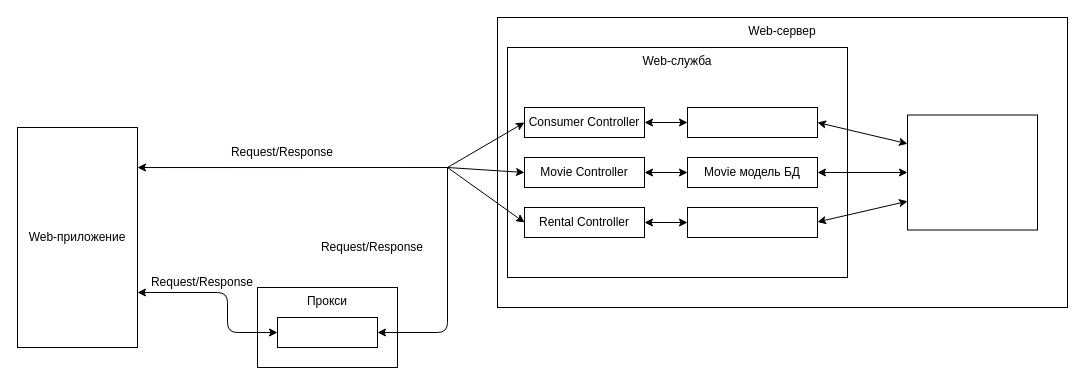
This 1085x385 diagram has some shape labels left out. The shapes that lost their labels are listed below. From the top down, each one's centre as x and y in pixels, then its label:
pixel 752 122: Consumer модель БД
pixel 972 172: База данных
pixel 752 222: Rental модель БД
pixel 327 332: Контроллер
